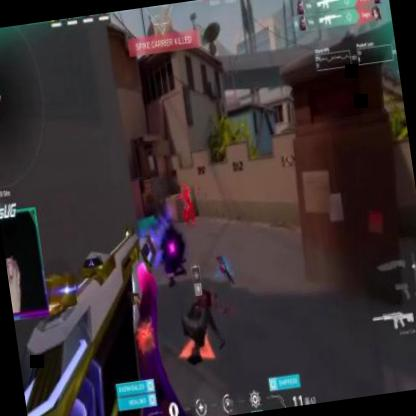enemy: (178, 182, 198, 230), (182, 183, 186, 190)
